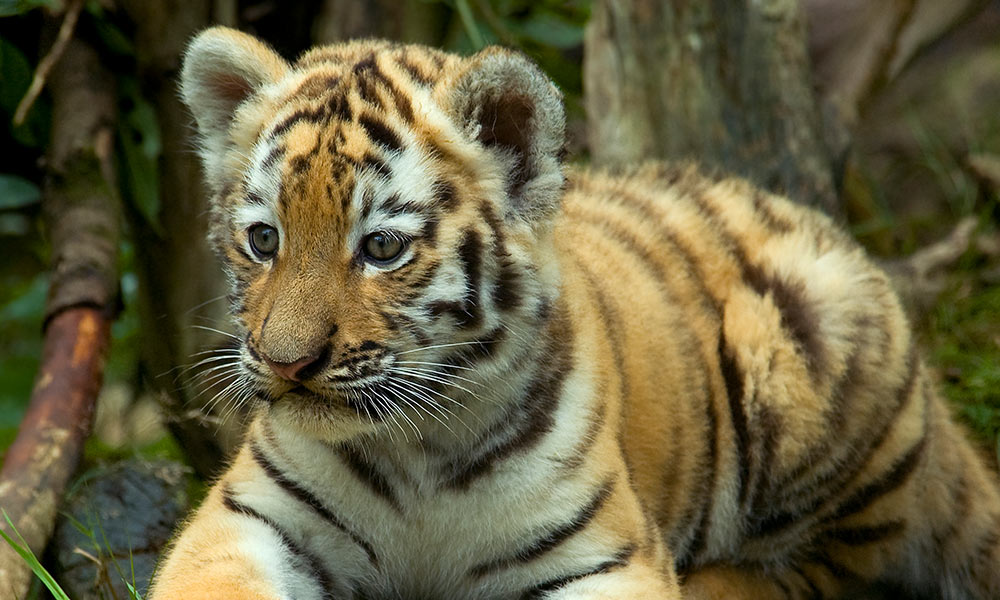Tiger: (138, 25, 962, 591)
